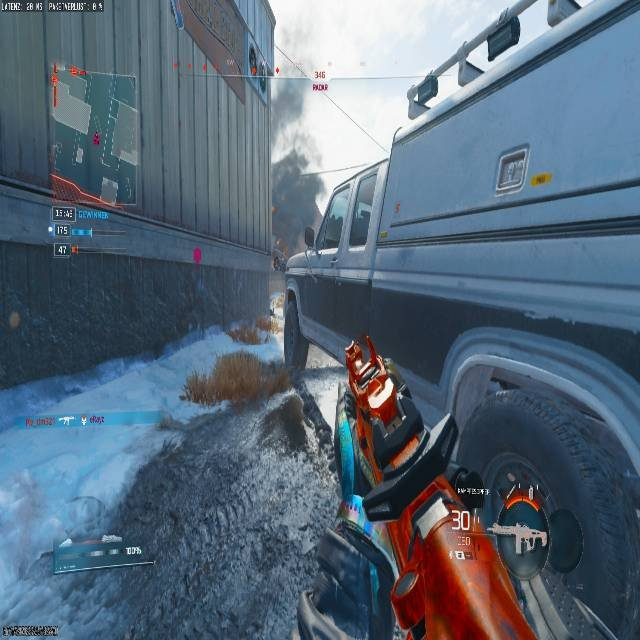head: (344, 335, 377, 380)
